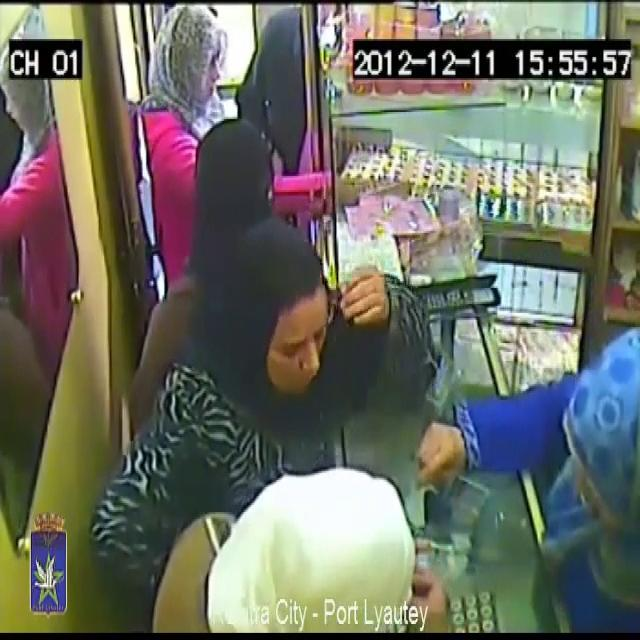normal: (464, 151, 640, 640), (116, 410, 445, 640), (138, 0, 355, 266), (226, 190, 350, 396), (184, 87, 279, 278)
